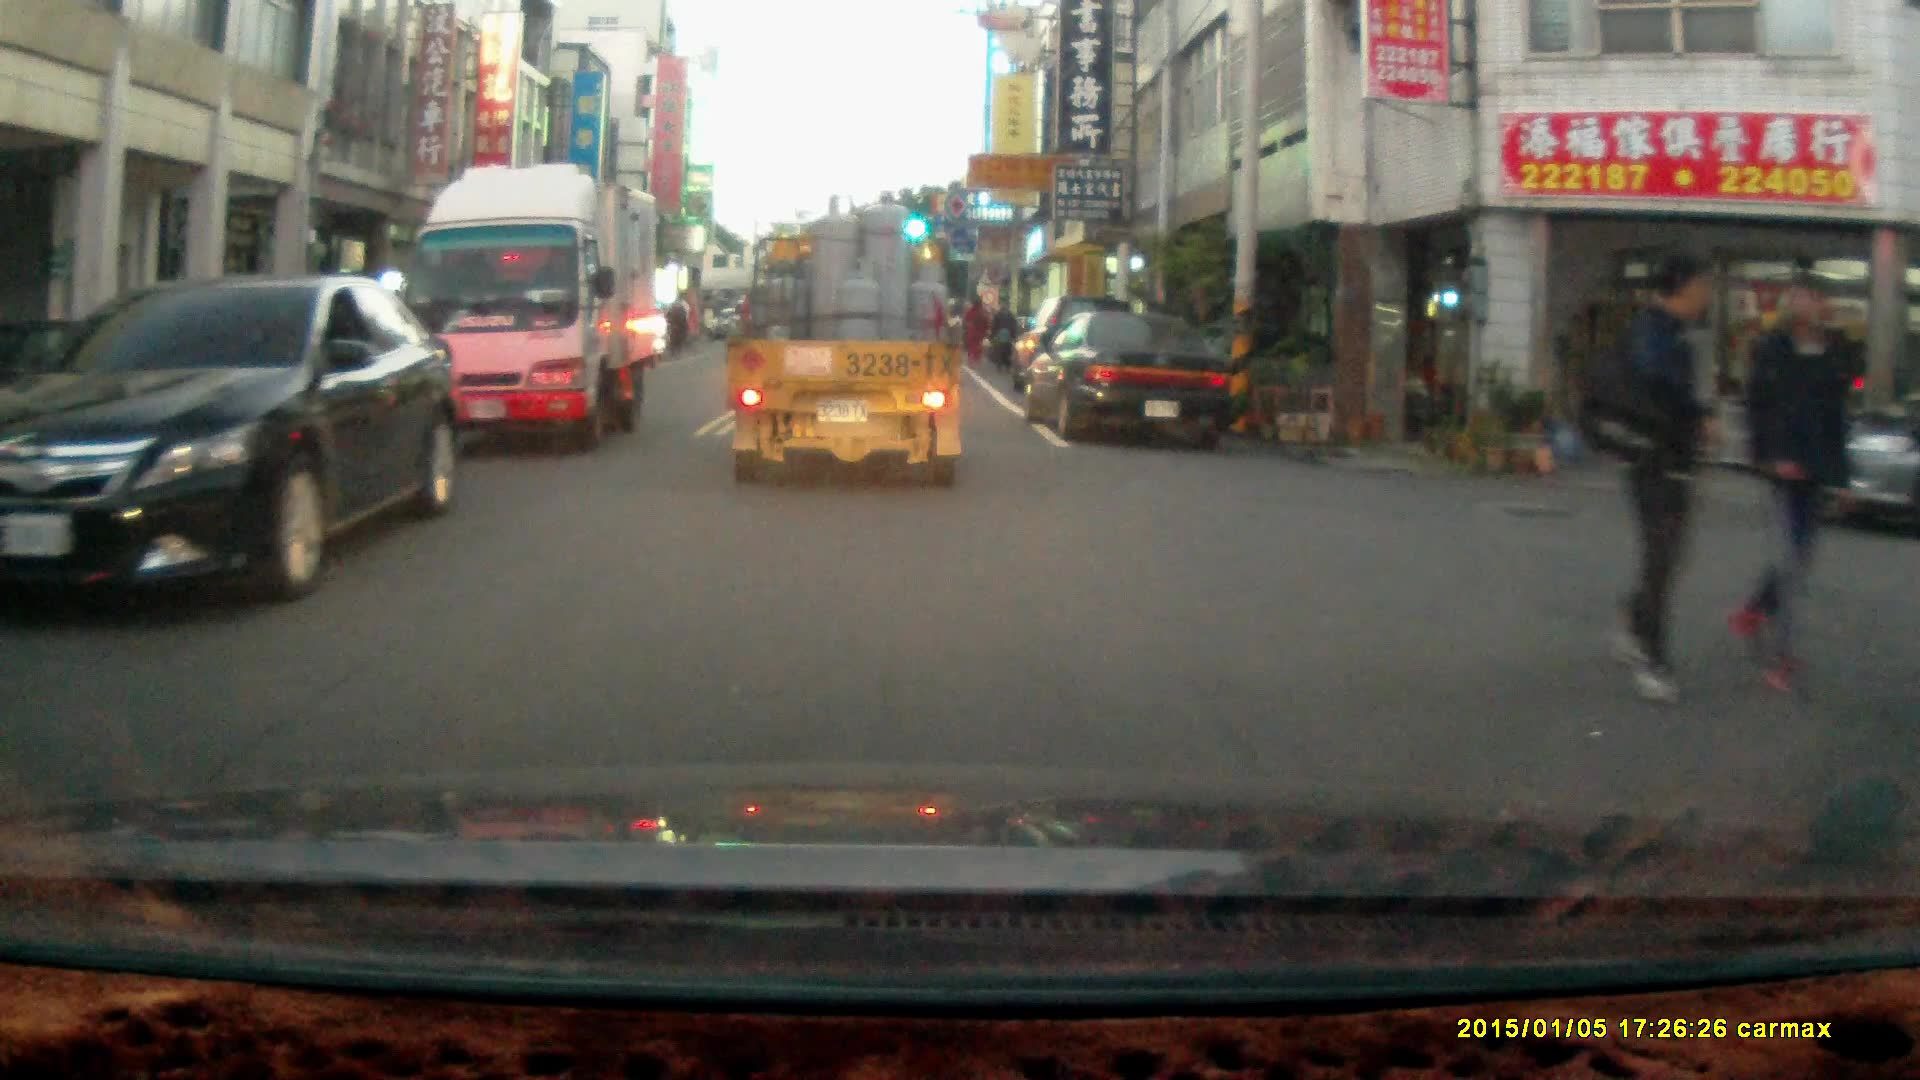pedestrian: (1726, 269, 1852, 703), (1603, 251, 1712, 704), (988, 291, 1018, 374), (961, 292, 990, 365), (662, 296, 690, 356)
vehicle: (2, 266, 466, 608), (400, 164, 662, 453), (731, 187, 965, 487), (1028, 311, 1237, 447)
